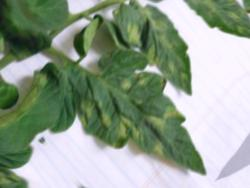Tomato mold leaf: (39, 22, 228, 188), (112, 0, 216, 106)
